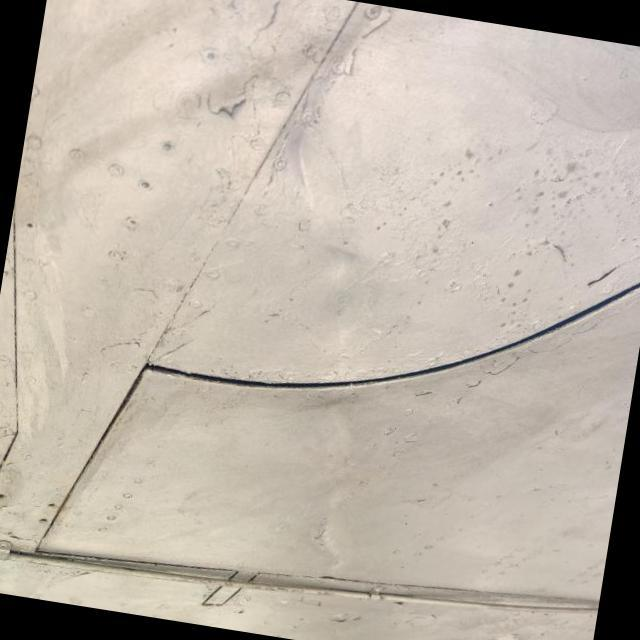Dent: (278, 470, 378, 580)
